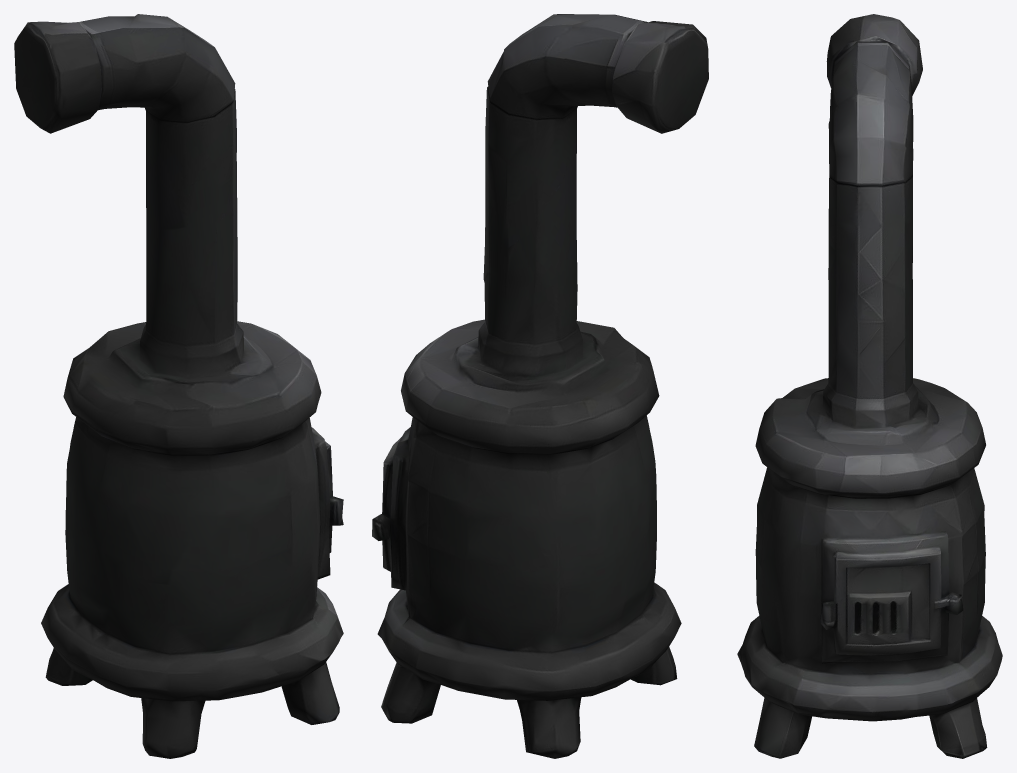
File: wood_stove.glb
The picture shows the model from 3 angles, left to right: view 1: azimuth 30°, elevation 25°; view 2: azimuth 150°, elevation 25°; view 3: azimuth 270°, elevation 25°; orthographic projection. The views are drawn at different scales.
Visible parts, largest first — view 1: tripo_node_dd712b3a-f22c-4a2f-86c6-36a837bca38b; view 2: tripo_node_dd712b3a-f22c-4a2f-86c6-36a837bca38b; view 3: tripo_node_dd712b3a-f22c-4a2f-86c6-36a837bca38b.
Boxes of the visible parts, box(x1,y1,x2,y2) form: tripo_node_dd712b3a-f22c-4a2f-86c6-36a837bca38b: box(14, 14, 343, 758); tripo_node_dd712b3a-f22c-4a2f-86c6-36a837bca38b: box(372, 14, 708, 758); tripo_node_dd712b3a-f22c-4a2f-86c6-36a837bca38b: box(737, 14, 1002, 758).
Size of the model in its own units: 0.4248 by 1 by 0.3784.
1 material, 1 textured.
